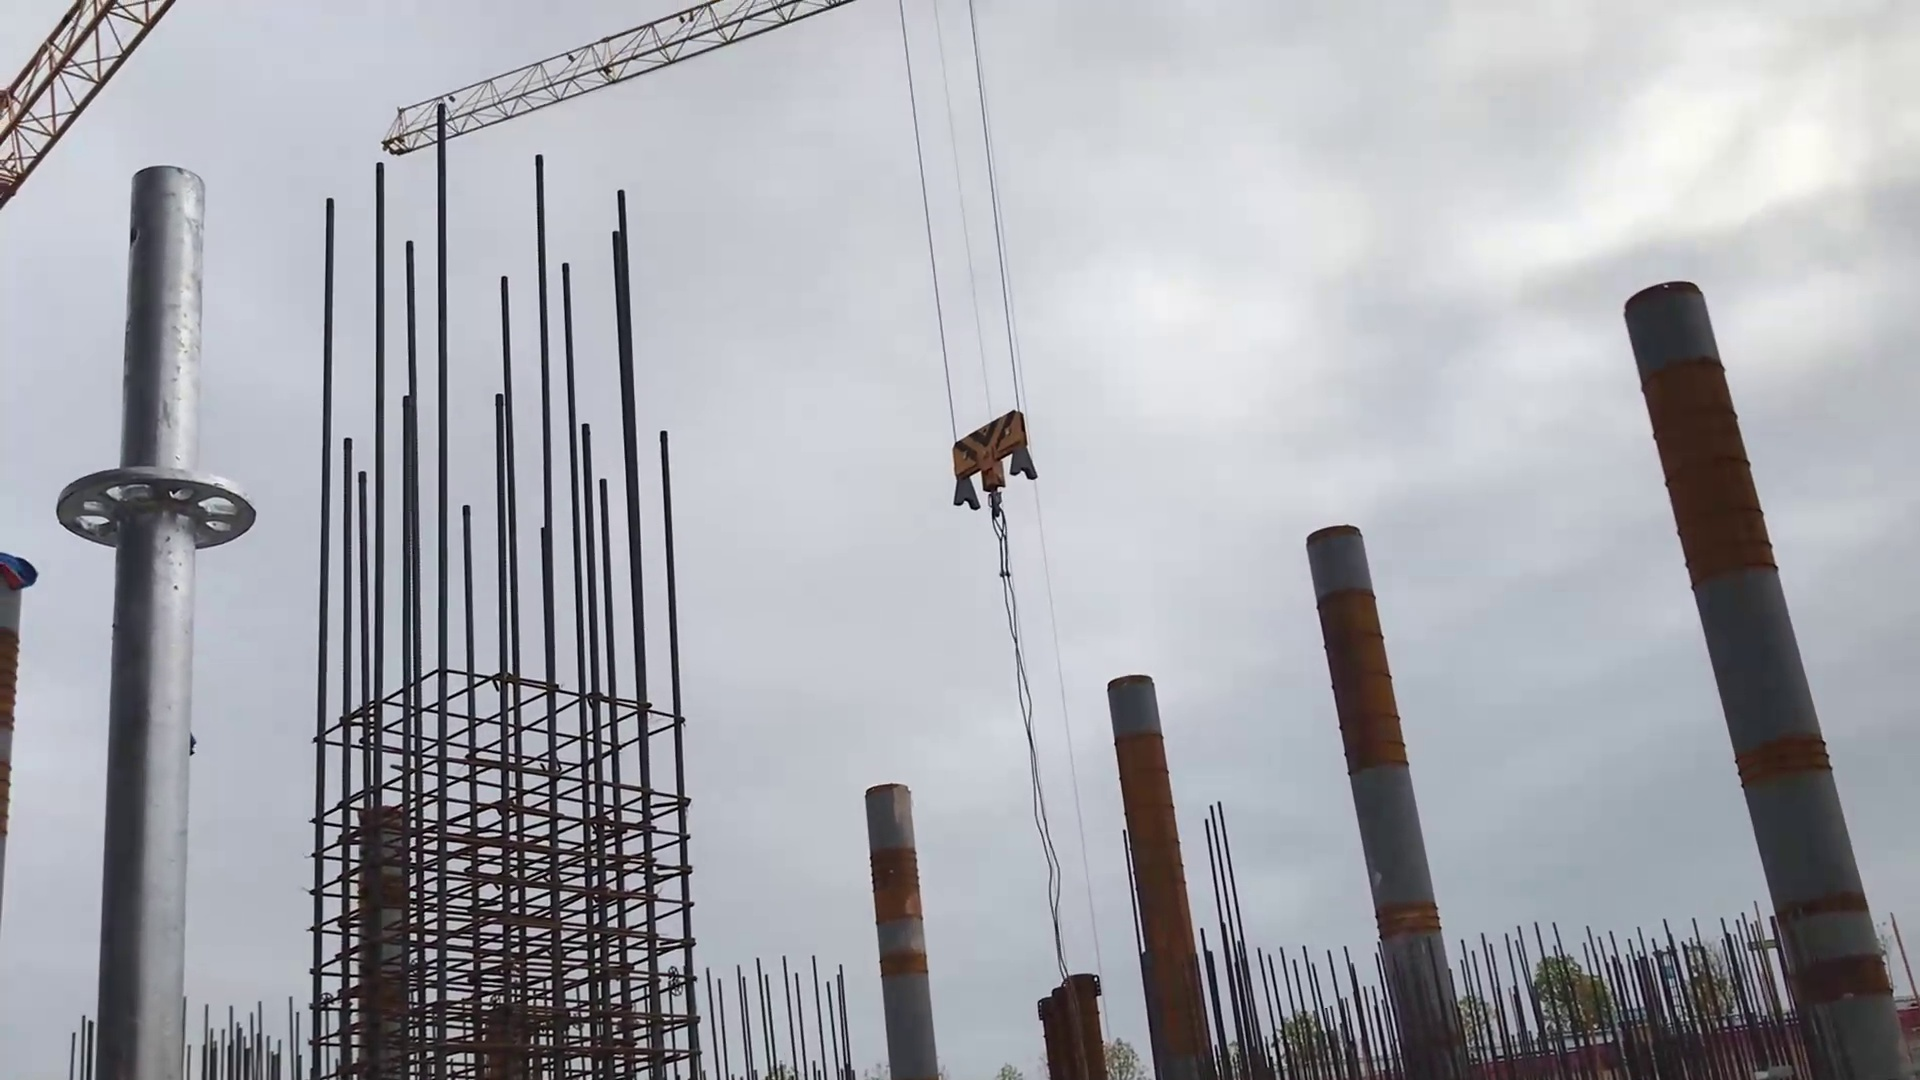hook: (947, 406, 1047, 522)
